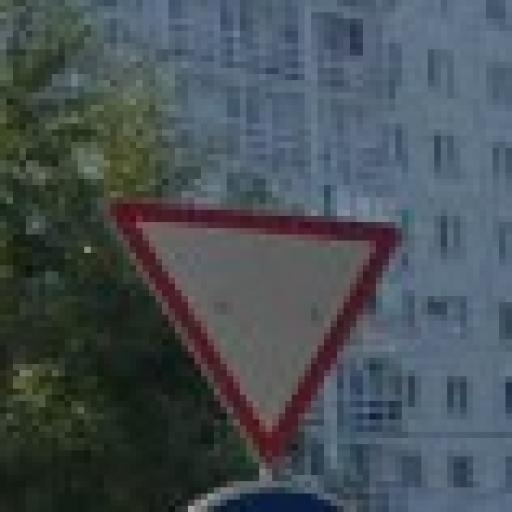traffic_sign: (98, 192, 403, 470)
